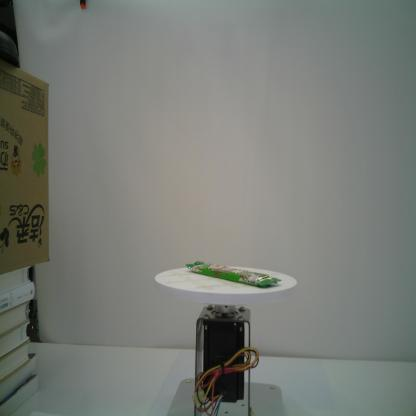Chocolate: (185, 259, 283, 290)
